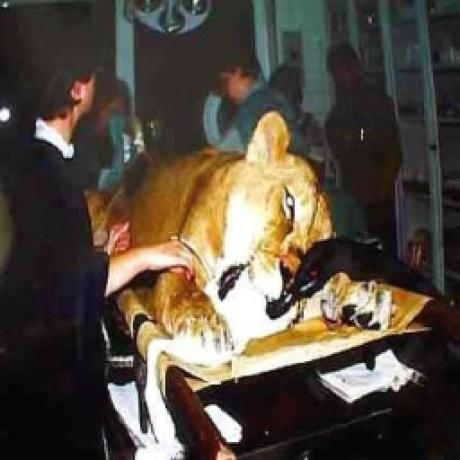Lion: (95, 107, 388, 360)
